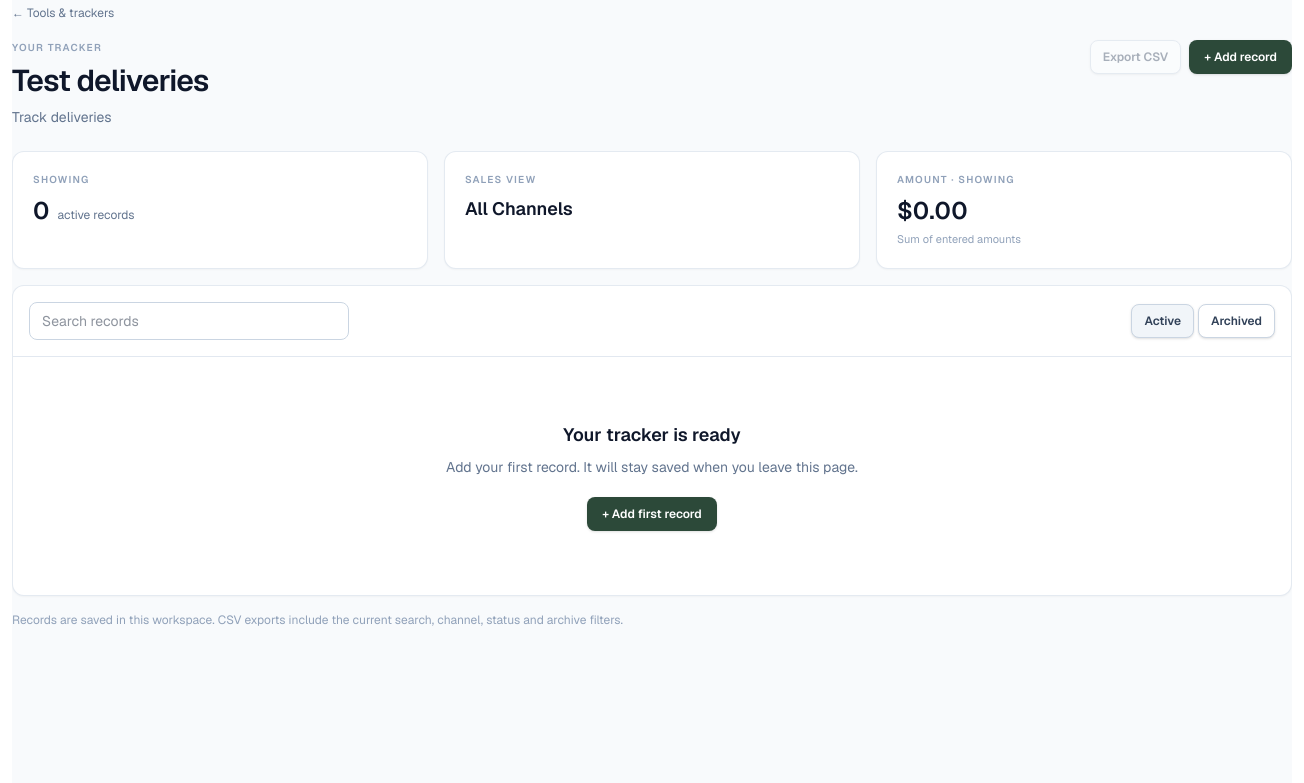
keeps an unsaved edit visible after a conflicting save
Click the button "+ Add record".
click(1241, 57)  # box [1189,40,1292,74]
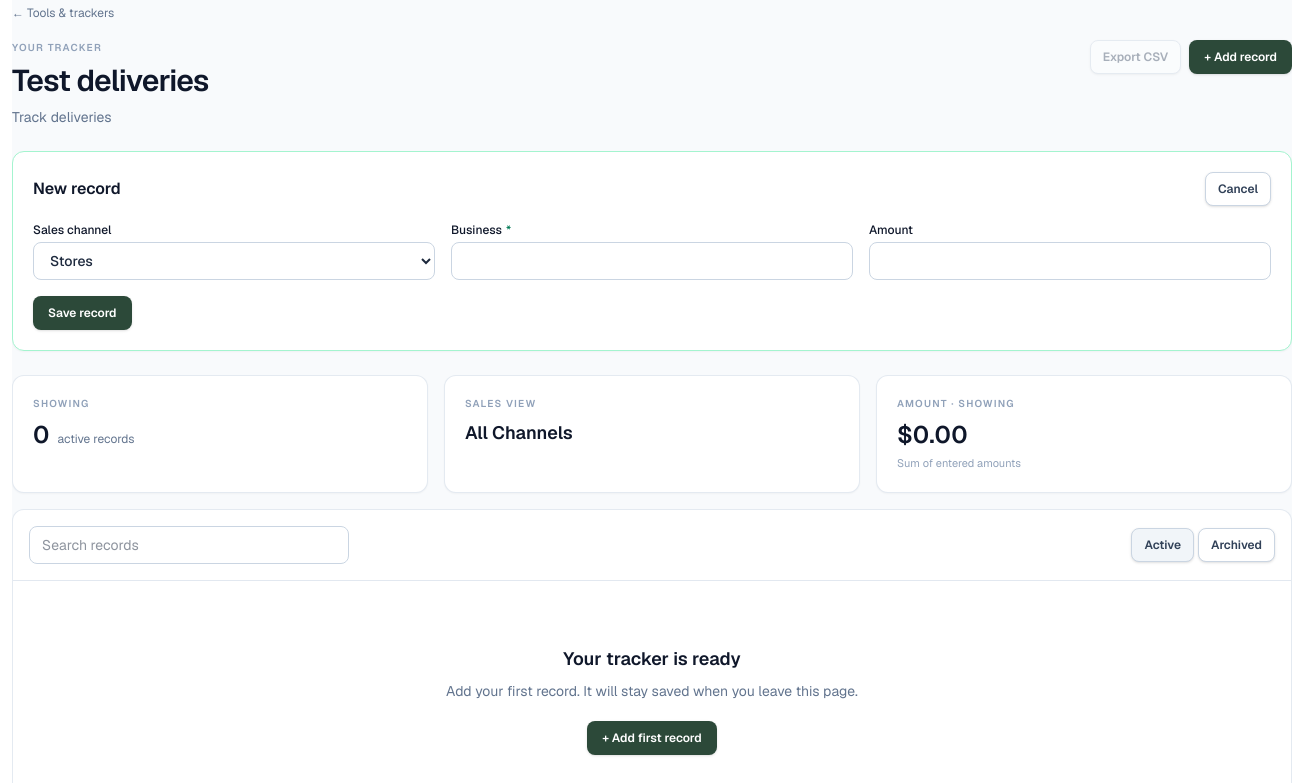
Type "Keep my edit" into the field labelled "Business*".
click(652, 261); type("Keep my edit")  # box [451,242,853,280]
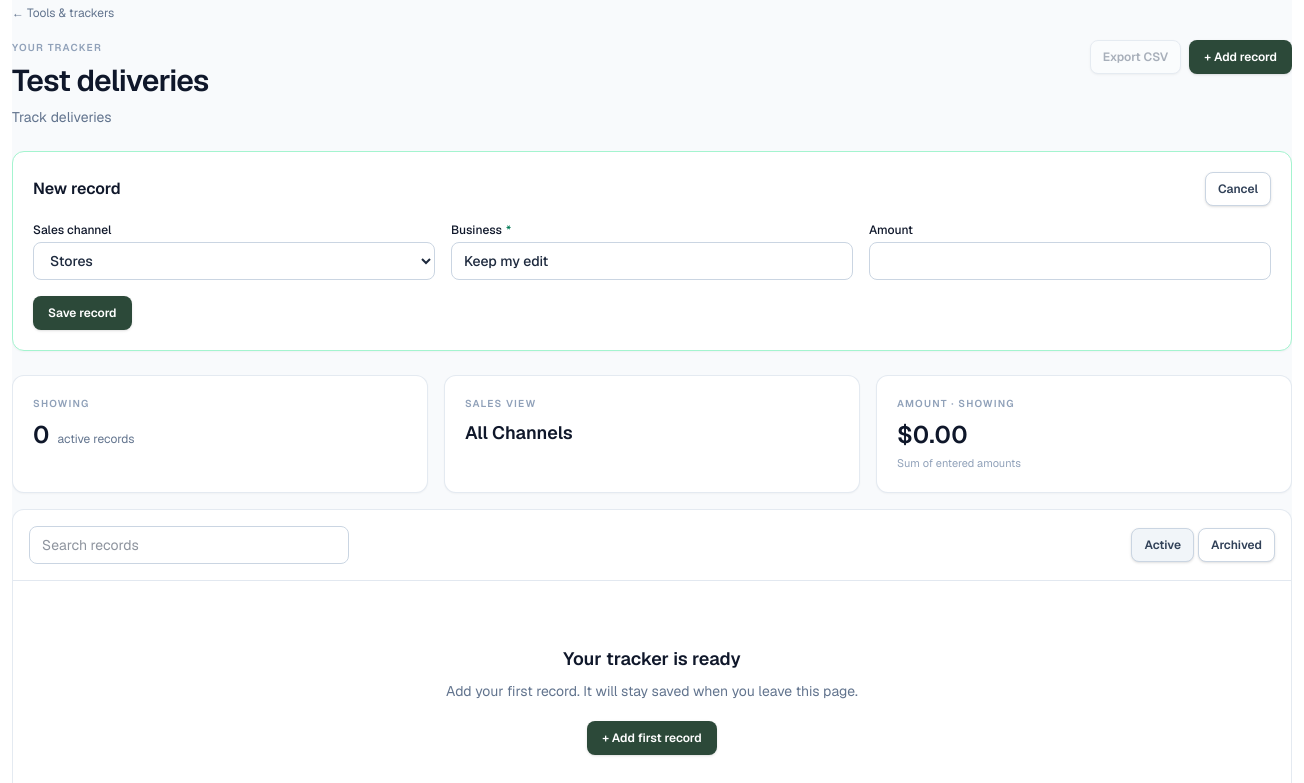
Click the button "Save record".
click(82, 313)  # box [33,296,132,330]
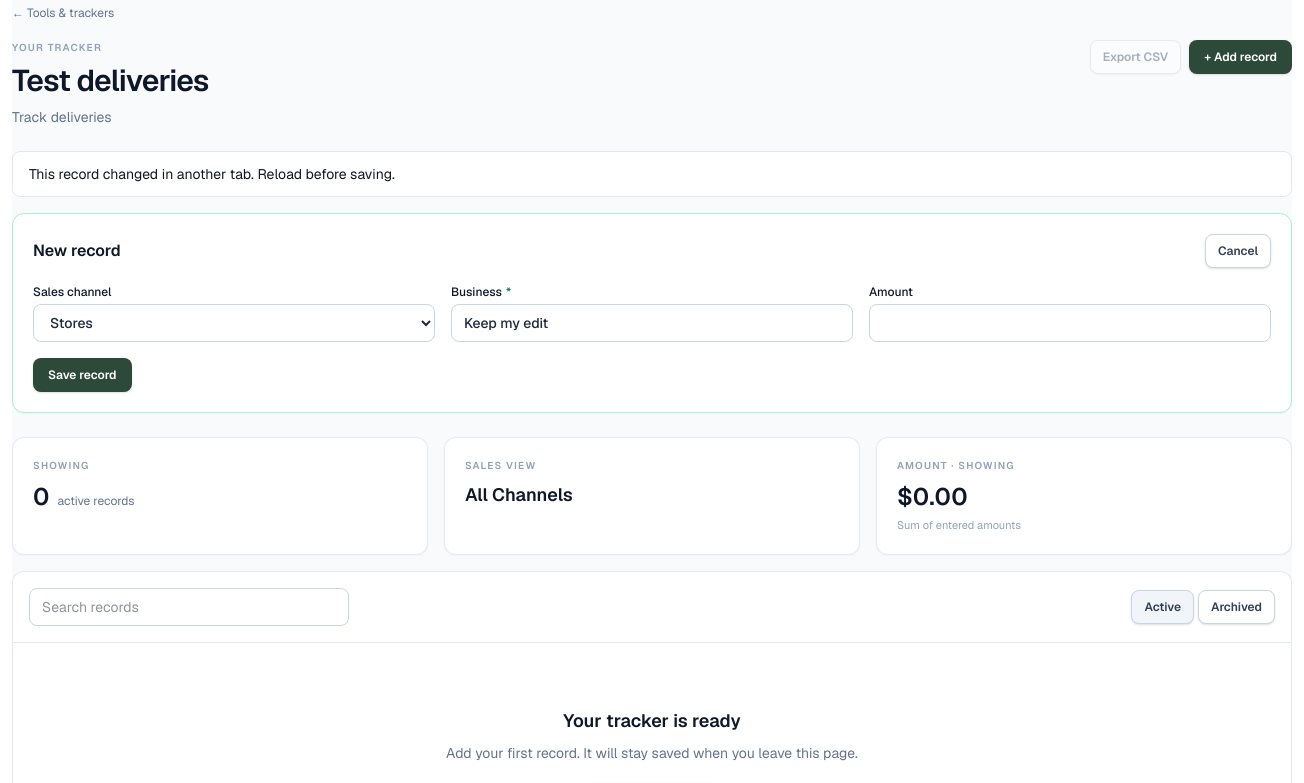
Check: the text "This record changed in another tab. Reload before saving." is shown, box [12,151,1292,197]
